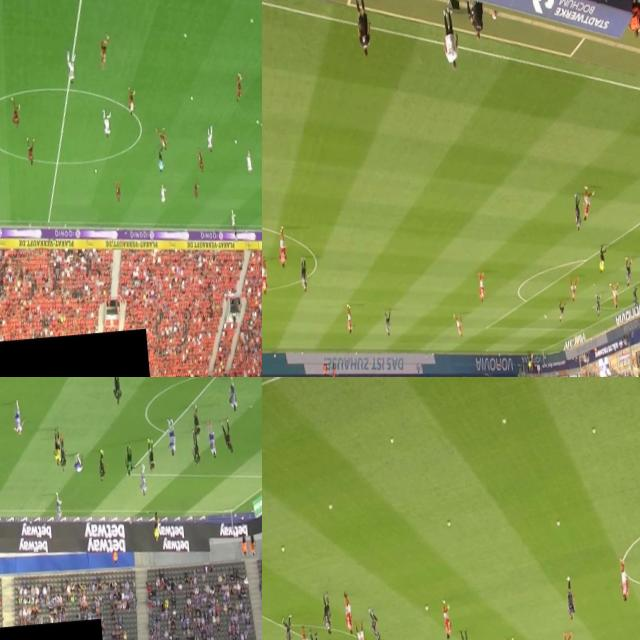ball: (444, 518, 452, 526), (542, 312, 548, 320), (554, 518, 560, 526), (501, 417, 507, 425), (388, 436, 394, 444), (592, 427, 597, 436), (424, 604, 428, 614), (232, 138, 238, 144), (326, 503, 332, 509), (280, 545, 284, 553), (189, 95, 193, 101), (183, 34, 186, 38), (249, 20, 253, 22), (256, 120, 258, 124), (94, 170, 96, 173)
player: (274, 224, 288, 270), (617, 556, 629, 603), (10, 401, 25, 438), (165, 417, 178, 459), (218, 420, 234, 454), (206, 418, 218, 462), (366, 606, 381, 640), (226, 377, 239, 416), (440, 597, 452, 639), (572, 191, 584, 232), (298, 254, 310, 294), (582, 186, 596, 220), (342, 592, 353, 634), (98, 32, 110, 70), (564, 574, 574, 618), (191, 428, 201, 471), (622, 254, 635, 286), (322, 595, 332, 635), (568, 274, 582, 302), (192, 403, 202, 442), (476, 269, 487, 303), (345, 301, 356, 334), (608, 280, 620, 310), (146, 439, 156, 474), (139, 460, 148, 498), (97, 446, 106, 484), (382, 306, 393, 337), (58, 439, 68, 472), (156, 125, 168, 152), (65, 52, 75, 84), (54, 489, 64, 521), (10, 94, 20, 125), (111, 377, 122, 404), (556, 298, 568, 322), (262, 254, 269, 295), (452, 312, 463, 338), (205, 125, 214, 154), (126, 88, 136, 114), (353, 620, 366, 640), (124, 444, 132, 476), (593, 292, 603, 317), (282, 615, 292, 640), (244, 148, 253, 175), (102, 110, 110, 138), (73, 454, 84, 473), (631, 283, 639, 309), (26, 137, 33, 165), (196, 149, 203, 173), (159, 184, 167, 204), (114, 180, 122, 200), (299, 626, 310, 640), (231, 209, 236, 229), (192, 182, 198, 198), (561, 632, 573, 640), (309, 632, 320, 640), (260, 122, 262, 148)
